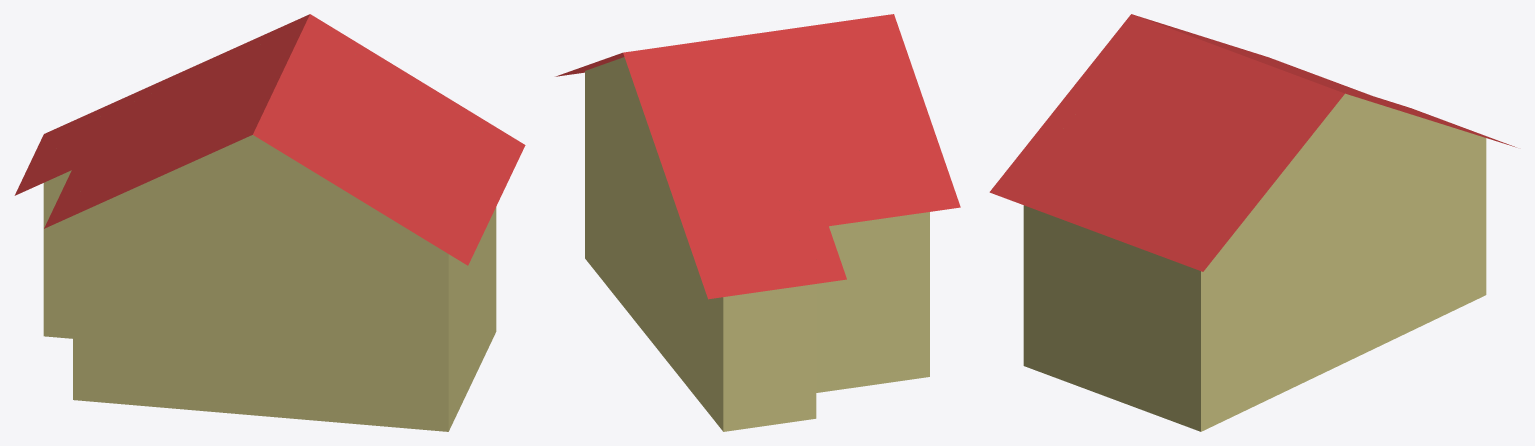
The picture shows the model from 3 angles, left to right: view 1: azimuth 30°, elevation 25°; view 2: azimuth 150°, elevation 25°; view 3: azimuth 270°, elevation 25°; orthographic projection. The views are drawn at different scales.
Bounding box in the file's own units: 15.63 × 16.42 × 9.71.
